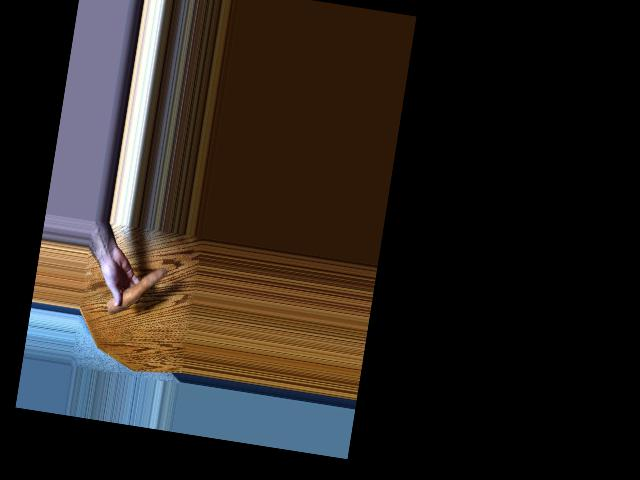sweet_potato: (105, 260, 166, 319)
